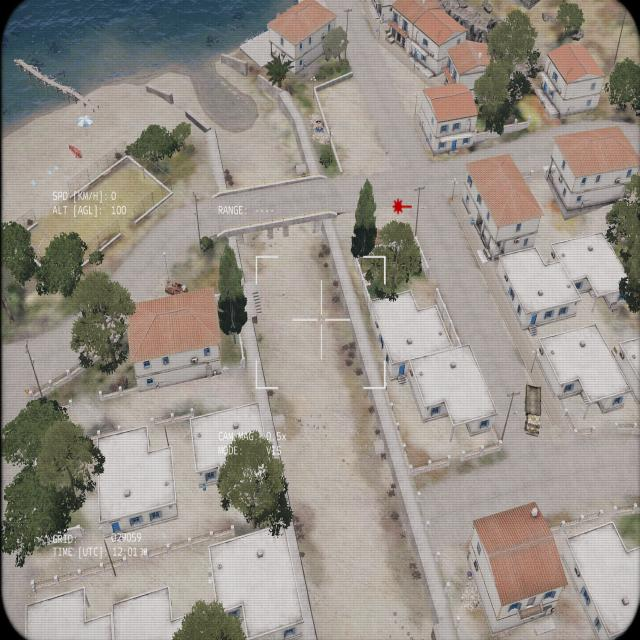truck: (522, 382, 542, 436)
